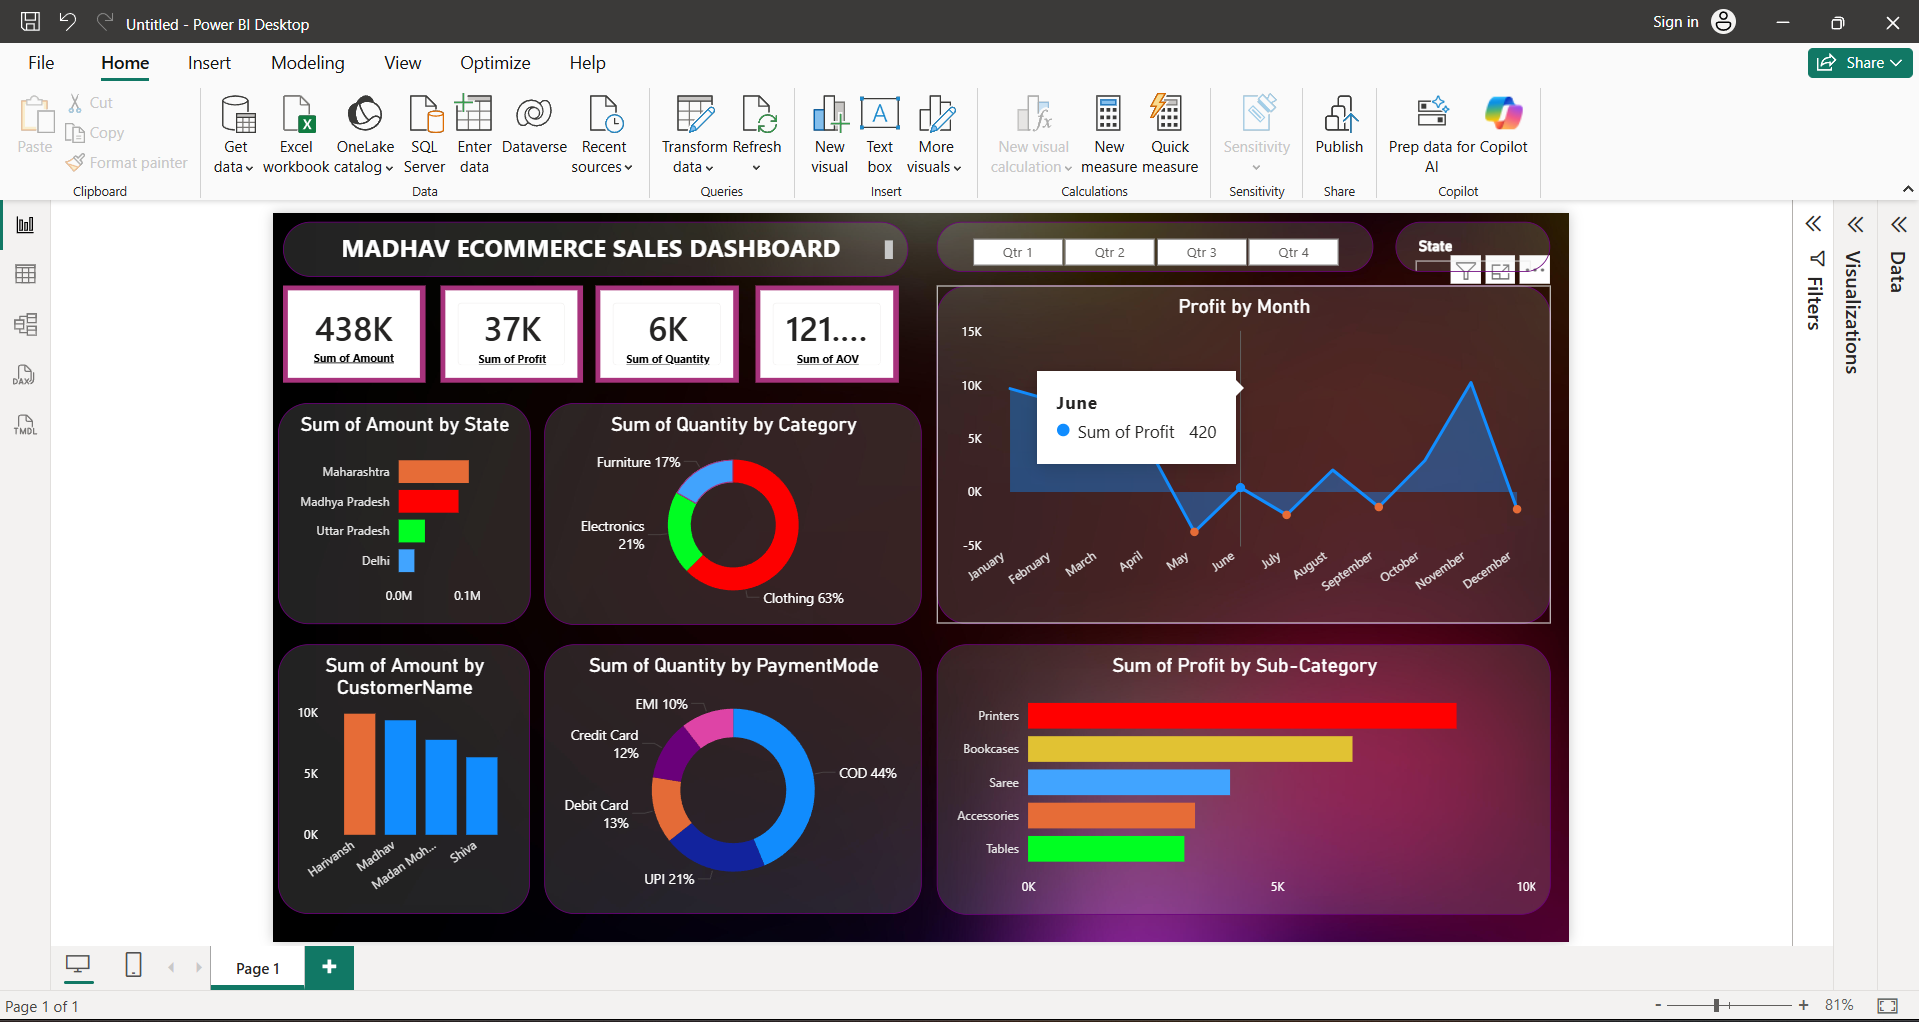

The page's visual inventory and layout, read from the dashboard file:
{"tool":"powerbi","page":{"name":"Page 1","canvas":[1280,720],"ordinal":0},"visuals":[{"type":"textbox","box":[9.9,8.6,617.3,54.3],"z":0},{"type":"stackedAreaChart","title":"Profit by Month","fields":{"Category":["Orders Raw Dataset.Order Date.Variation.Date Hierarchy.Month"],"Y":["Sum(Details Raw Dataset.Profit)"]},"box":[655.6,71.6,606.2,334.6],"z":1000},{"type":"barChart","fields":{"Category":["Details Raw Dataset.Sub-Category"],"Y":["Sum(Details Raw Dataset.Profit)"]},"box":[655.4,425.7,606.8,267.6],"z":2000},{"type":"donutChart","fields":{"Category":["Details Raw Dataset.Category"],"Y":["Sum(Details Raw Dataset.Quantity)"]},"box":[267.6,187.8,373,218.9],"z":3000},{"type":"donutChart","fields":{"Y":["Sum(Details Raw Dataset.Quantity)"],"Category":["Details Raw Dataset.PaymentMode"]},"box":[267.6,425.7,373,266.2],"z":4000},{"type":"cardVisual","fields":{"Data":["Sum(Details Raw Dataset.Amount)"]},"box":[9.9,71.6,140.7,96.3],"z":5000},{"type":"cardVisual","fields":{"Data":["Sum(Details Raw Dataset.Profit)"]},"box":[165.4,71.6,140.7,96.3],"z":6000},{"type":"cardVisual","fields":{"Data":["Sum(Details Raw Dataset.Quantity)"]},"box":[318.5,71.6,142,96.3],"z":7000},{"type":"cardVisual","fields":{"Data":["Sum(Details Raw Dataset.AOV)"]},"box":[476.5,71.6,142,96.3],"z":8000},{"type":"barChart","fields":{"Category":["Orders Raw Dataset.State"],"Y":["Sum(Details Raw Dataset.Amount)"]},"box":[4.9,187.7,249.4,218.5],"z":9000},{"type":"columnChart","fields":{"Category":["Orders Raw Dataset.CustomerName"],"Y":["Sum(Details Raw Dataset.Amount)"]},"box":[5,426,249,266],"z":10000},{"type":"slicer","fields":{"Values":["Orders Raw Dataset.Order Date.Variation.Date Hierarchy.Quarter"]},"box":[655.6,8.6,430.9,49.4],"z":11000},{"type":"slicer","fields":{"Values":["Orders Raw Dataset.State"]},"box":[1108.6,8.6,153.1,49.4],"z":11001}]}

Visuals, with their boxes on the page's 1280x720 design canvas (x1, y1, x2, y2). These are canvas units, not pixel positions in the 1919x1022 screenshot, which may show the page scaled, cropped or inside an application window:
textbox: [10,9,627,63]
"Profit by Month" stackedAreaChart: [656,72,1262,406]
barChart - Details Raw Dataset.Sub-Category x Sum(Details Raw Dataset.Profit): [655,426,1262,693]
donutChart - Details Raw Dataset.Category x Sum(Details Raw Dataset.Quantity): [268,188,641,407]
donutChart - Sum(Details Raw Dataset.Quantity) x Details Raw Dataset.PaymentMode: [268,426,641,692]
cardVisual - Sum(Details Raw Dataset.Amount): [10,72,151,168]
cardVisual - Sum(Details Raw Dataset.Profit): [165,72,306,168]
cardVisual - Sum(Details Raw Dataset.Quantity): [318,72,460,168]
cardVisual - Sum(Details Raw Dataset.AOV): [476,72,618,168]
barChart - Orders Raw Dataset.State x Sum(Details Raw Dataset.Amount): [5,188,254,406]
columnChart - Orders Raw Dataset.CustomerName x Sum(Details Raw Dataset.Amount): [5,426,254,692]
slicer - Orders Raw Dataset.Order Date.Variation.Date Hierarchy.Quarter: [656,9,1086,58]
slicer - Orders Raw Dataset.State: [1109,9,1262,58]
